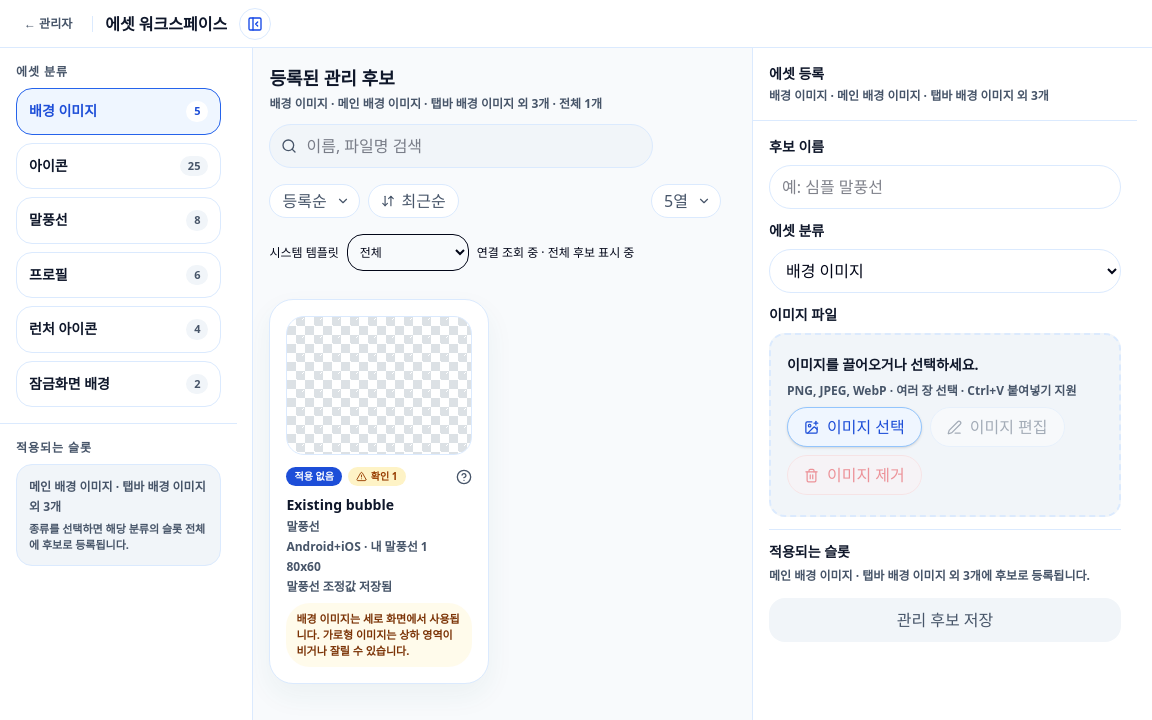
Test case: admin asset paste › holds deletion while a stored system template reference exists
The image size is (1152, 720).
Expected: the dropdown named "시스템 템플릿 연결 필터" is enabled, left=347, top=234, right=469, bottom=271
What coordinates should you click on to do the following:
click the button named "에셋 상세 보기"
I would click on:
 (379, 492)
Its box is left=270, top=300, right=488, bottom=683.
(page scrolled)
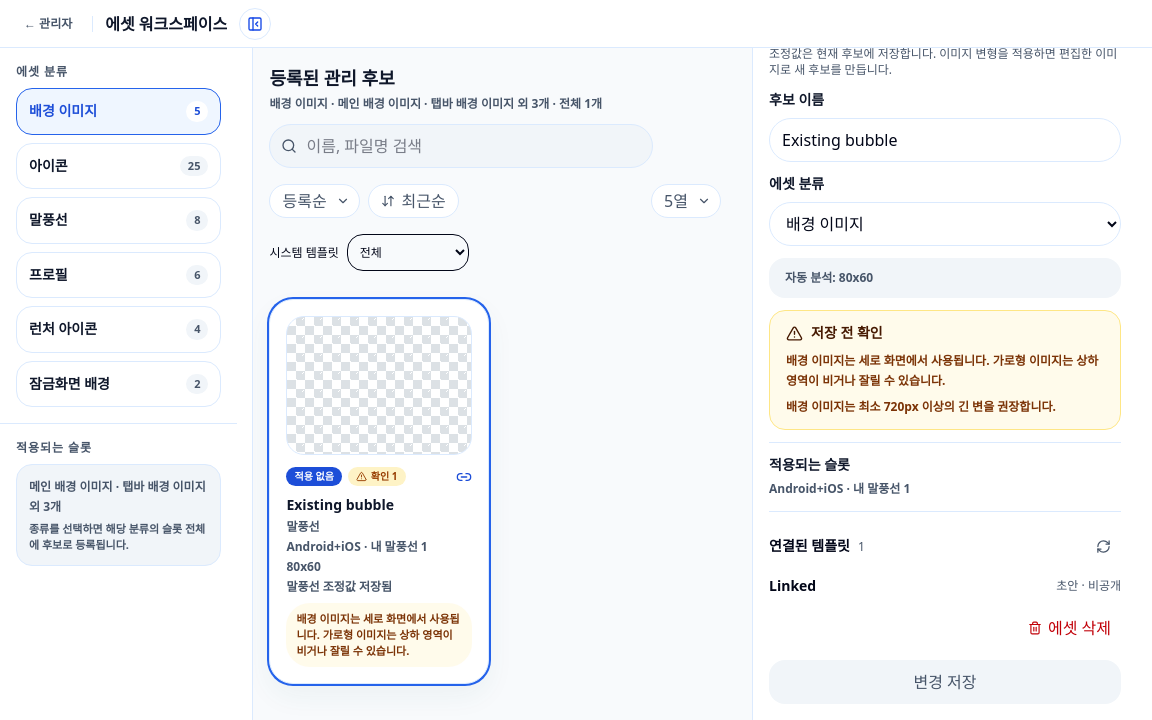
Expected: the field labelled "후보 이름" is enabled, left=769, top=118, right=1121, bottom=162
What coordinates should you click on to do the following:
click the button "에셋 삭제"
I would click on:
 (1070, 628)
Its box is left=1018, top=608, right=1121, bottom=648.
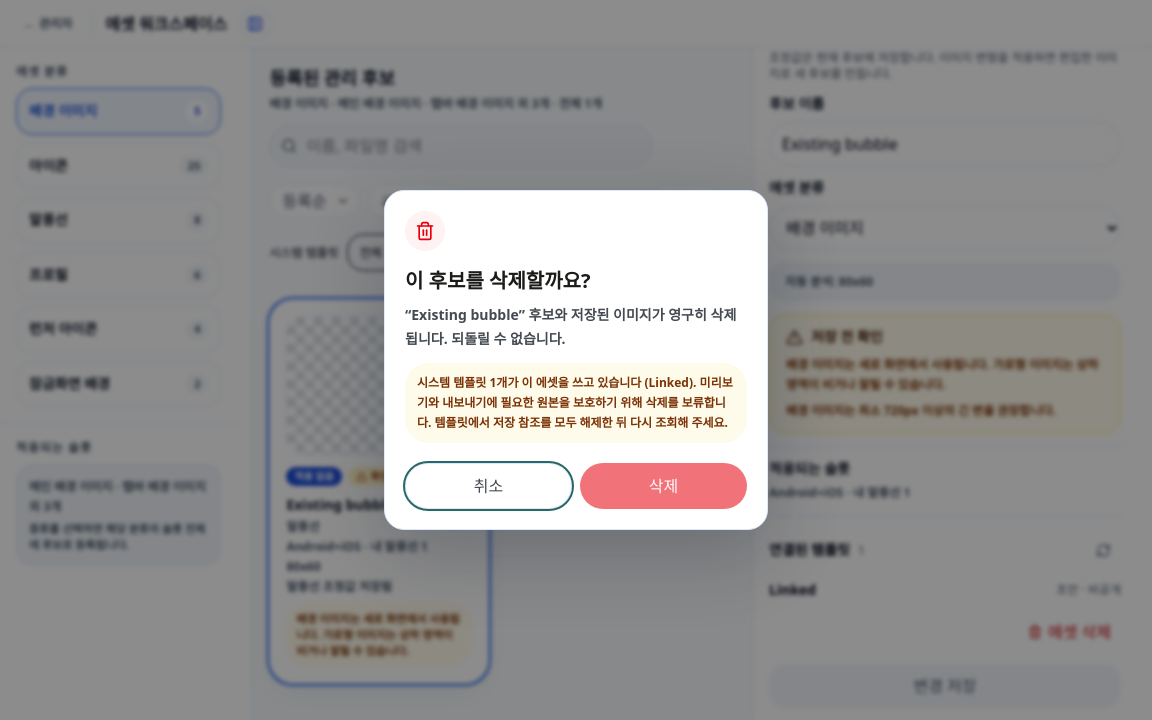
Now the text "미리보기와 내보내기에 필요한 원본" is shown, box left=417, top=374, right=733, bottom=431
Now the button "삭제" is disabled, box left=580, top=463, right=747, bottom=509
